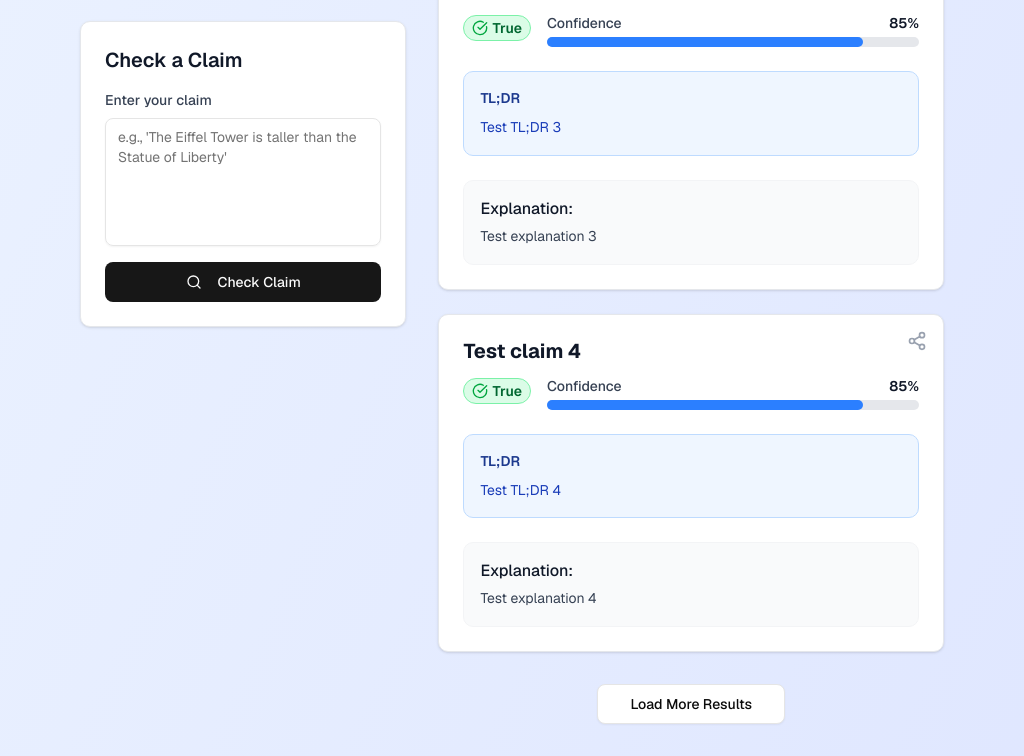
Scenario: HomePage › Results Management with TL;DR › loads more results when button is clicked
(page scrolled)
Expected: the heading "Test claim 4" is shown, [463,338,581,364]
Note: Click load more
Click the button "Load More Results".
click(691, 704)  # box [597,684,785,724]
(page scrolled)
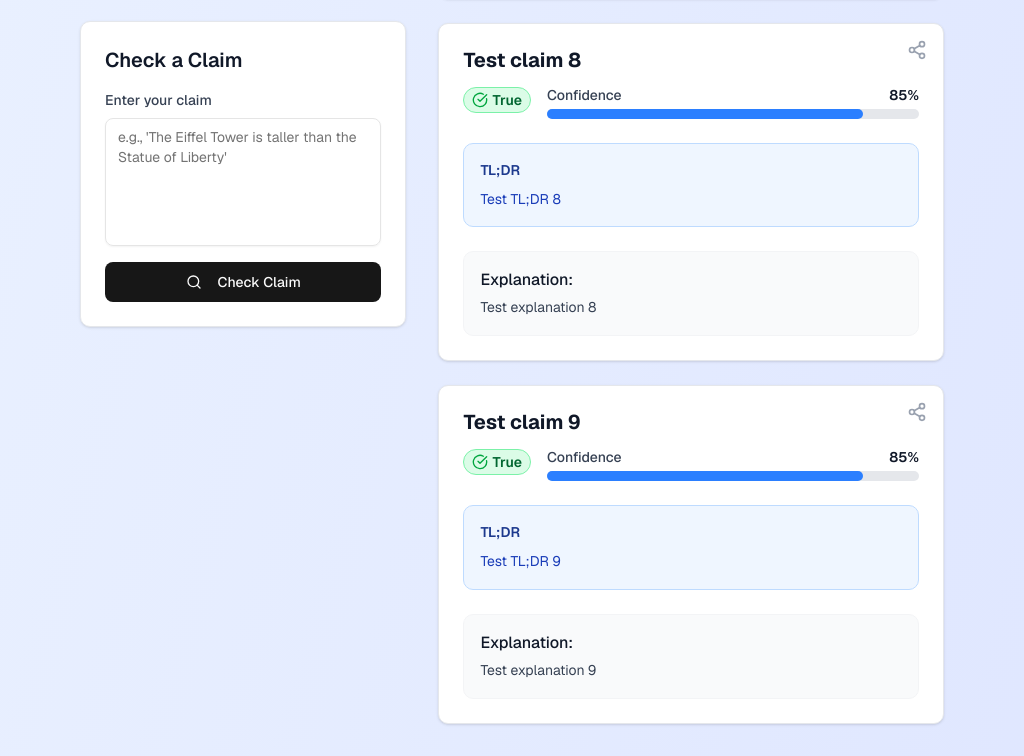
Expected: the heading "Test claim 9" is shown, [463,409,581,435]
